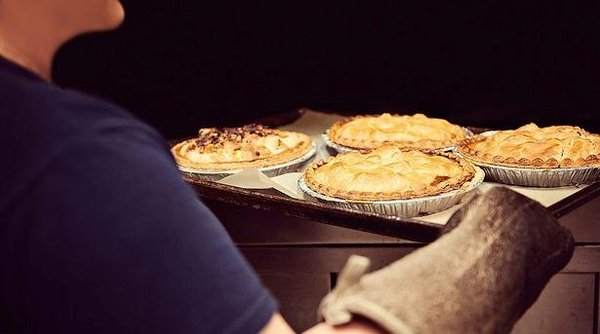sandwich: (171, 123, 313, 172)
